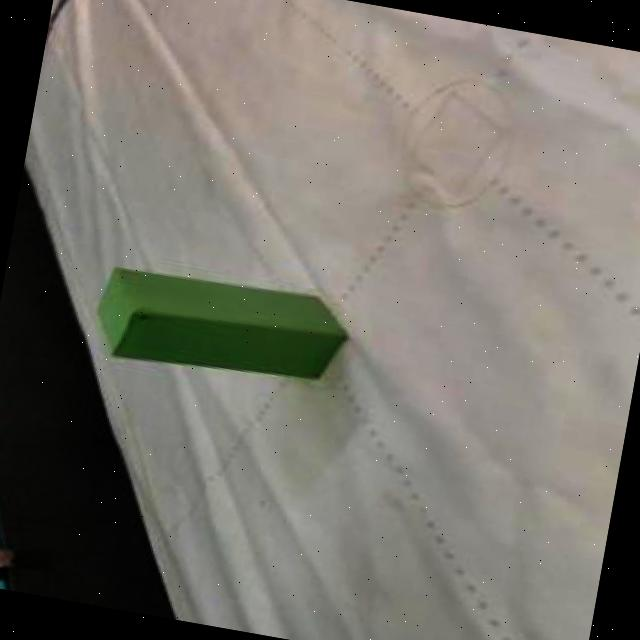greenbox: (80, 258, 353, 402)
